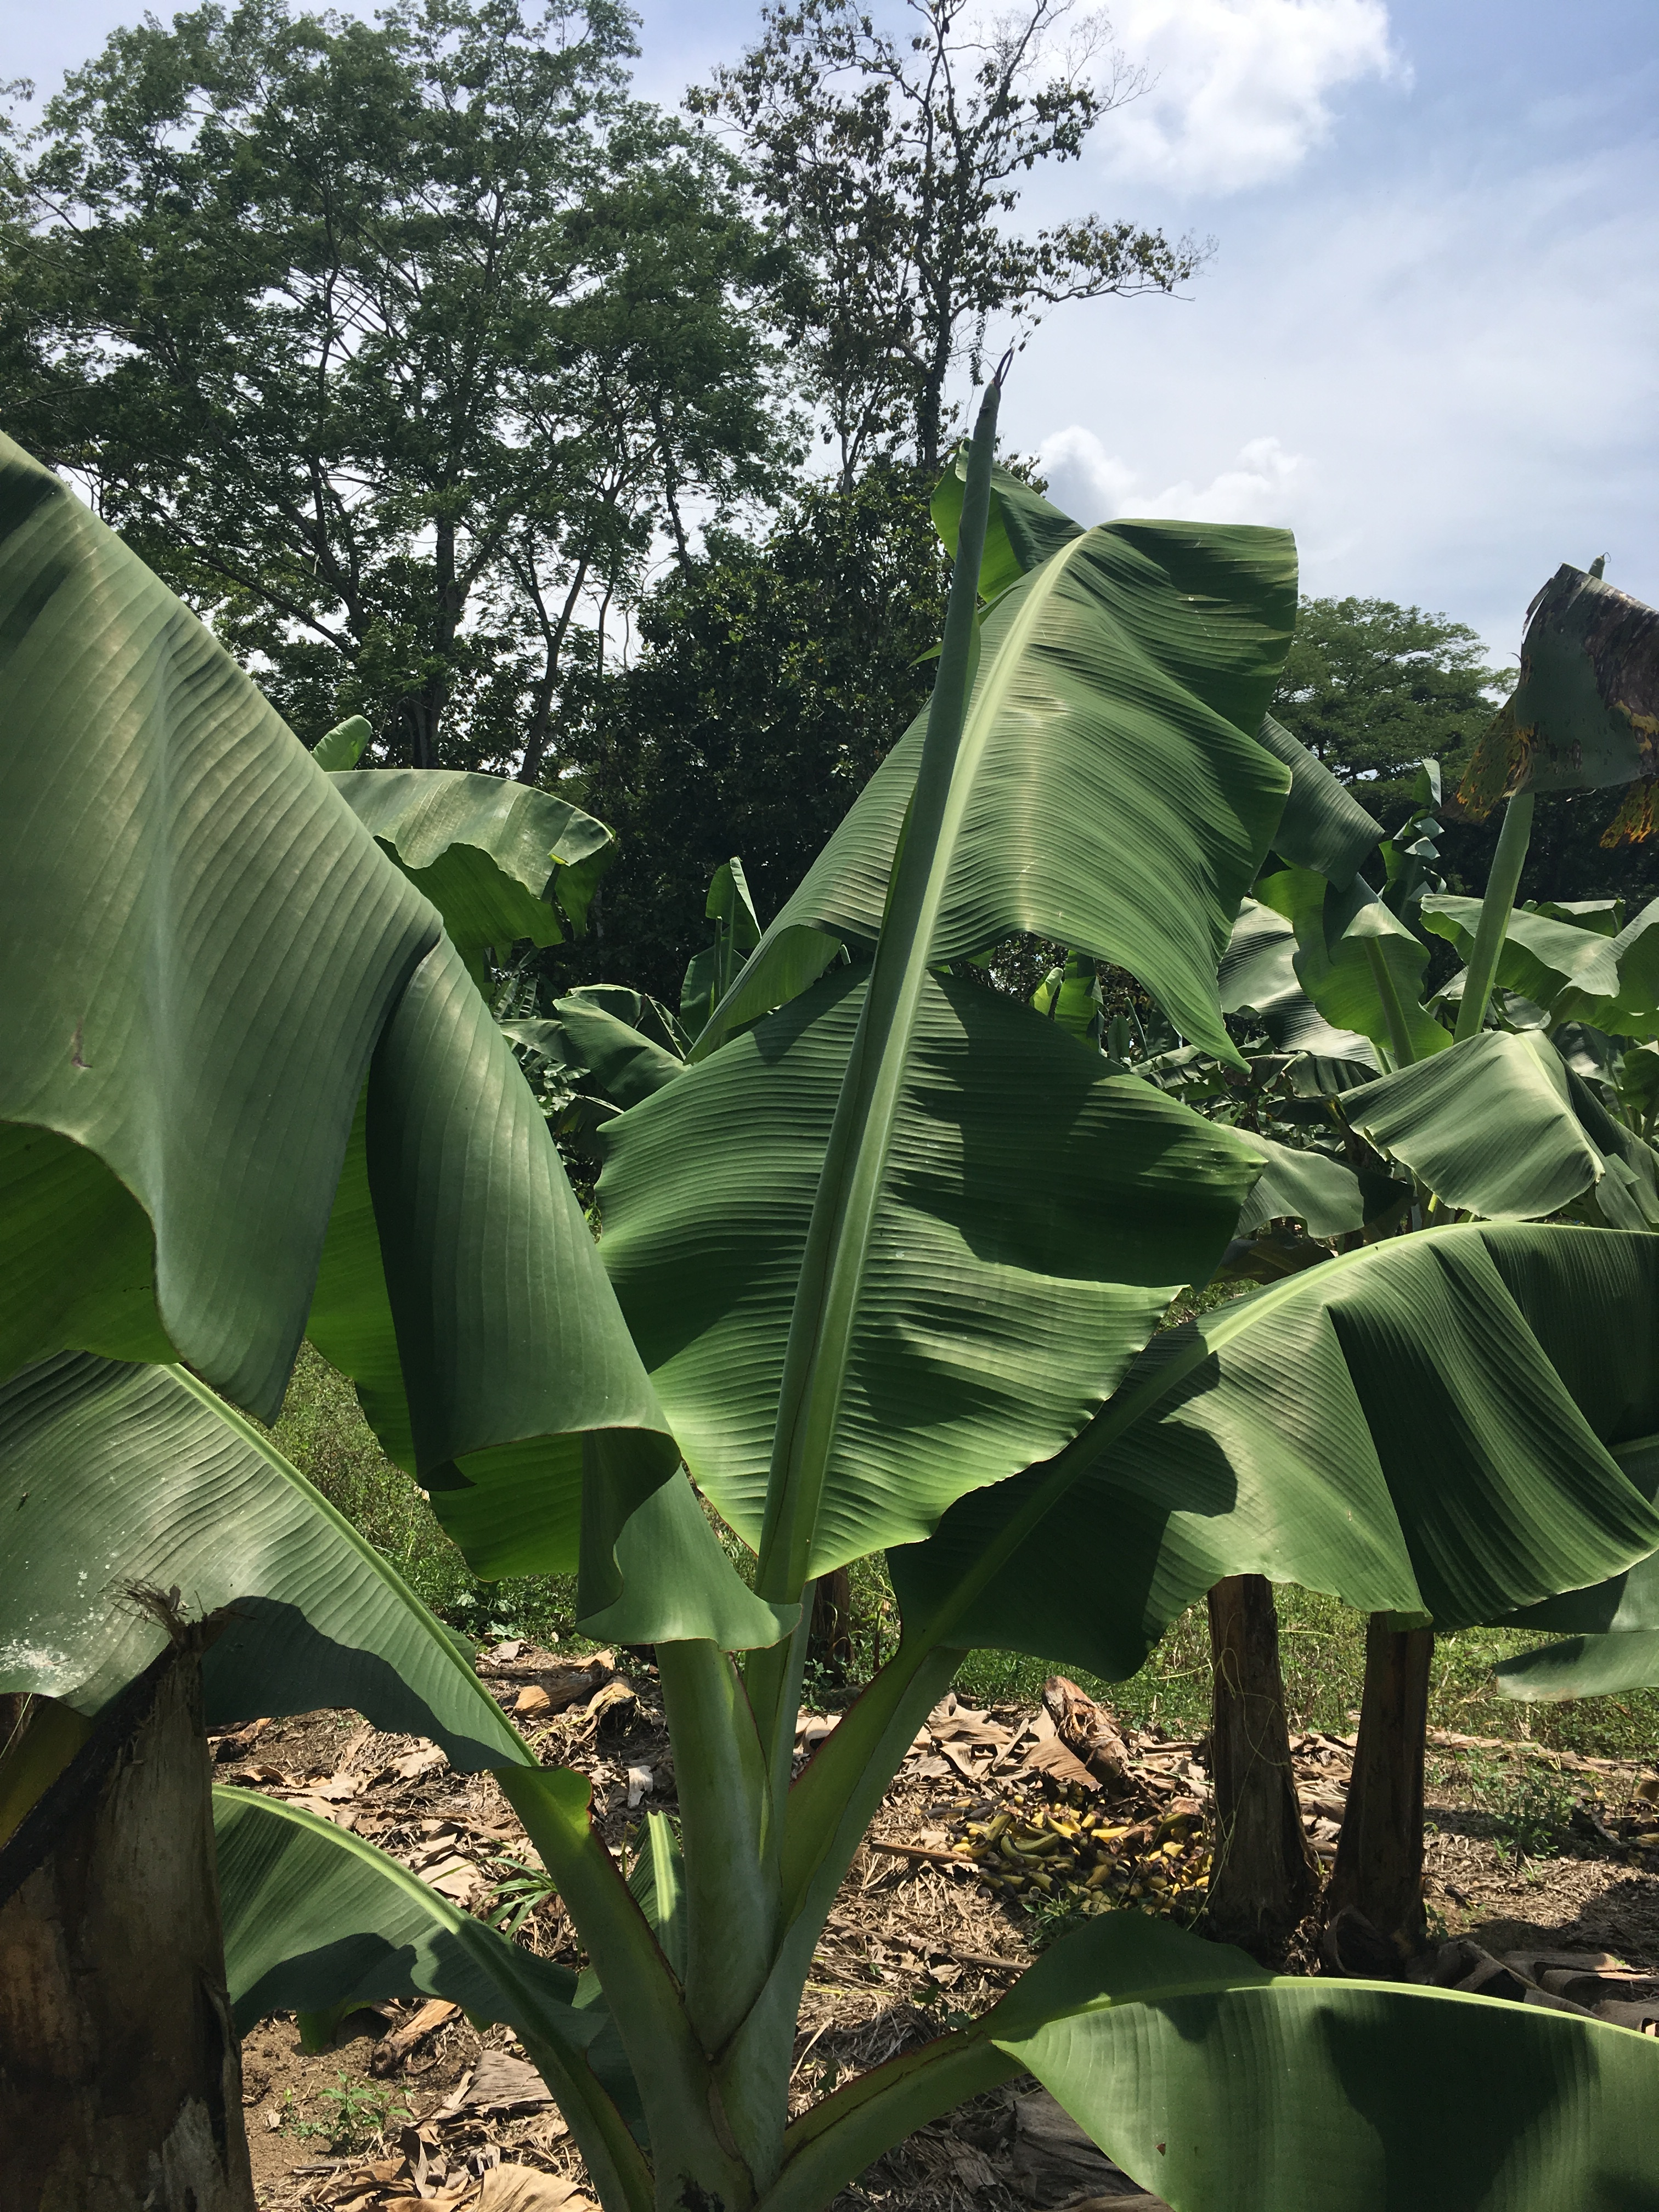candleleafs: (756, 348, 1012, 1606)
